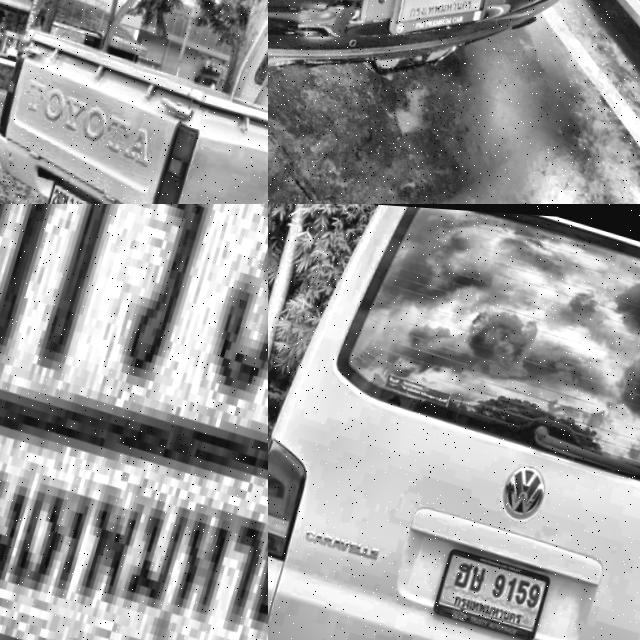license-plate: (0, 204, 268, 640), (432, 536, 561, 640), (382, 0, 505, 55), (41, 174, 103, 204)
